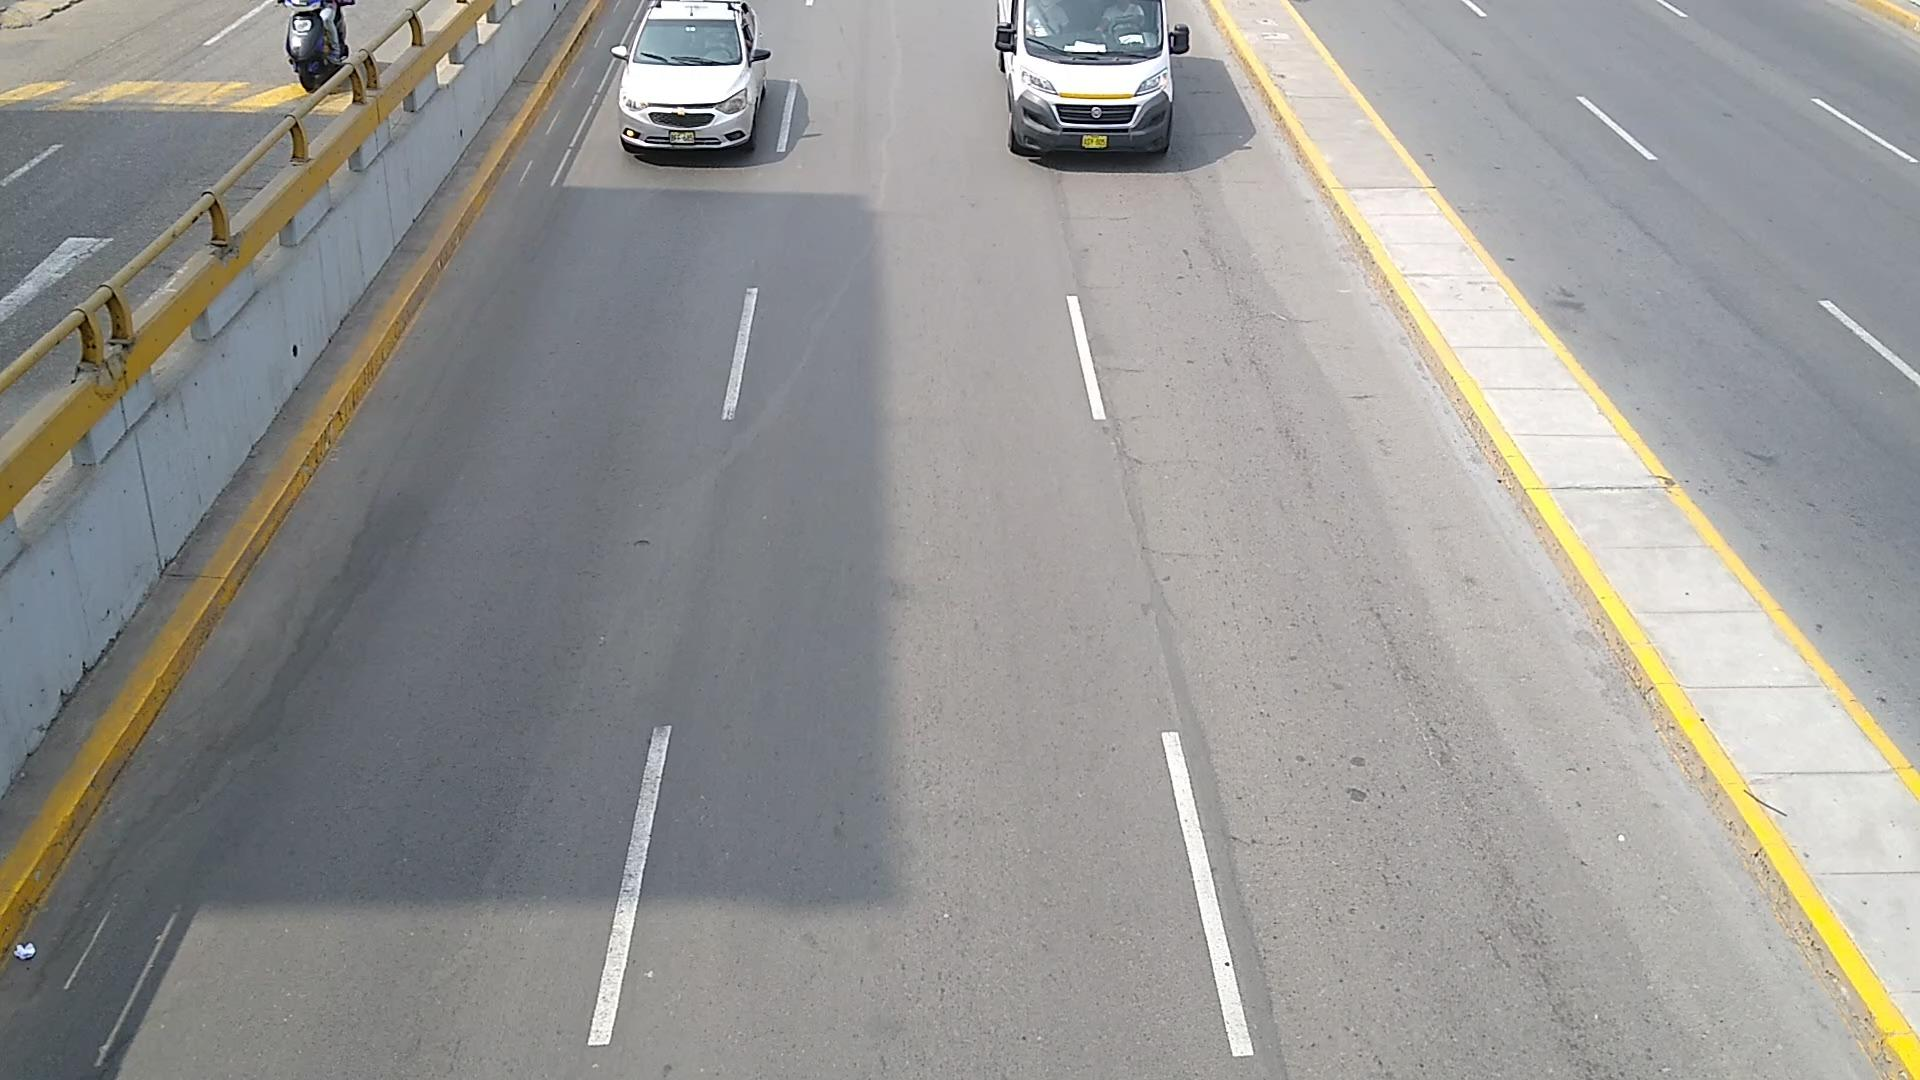car: (611, 0, 769, 154)
minivan: (994, 0, 1192, 154)
